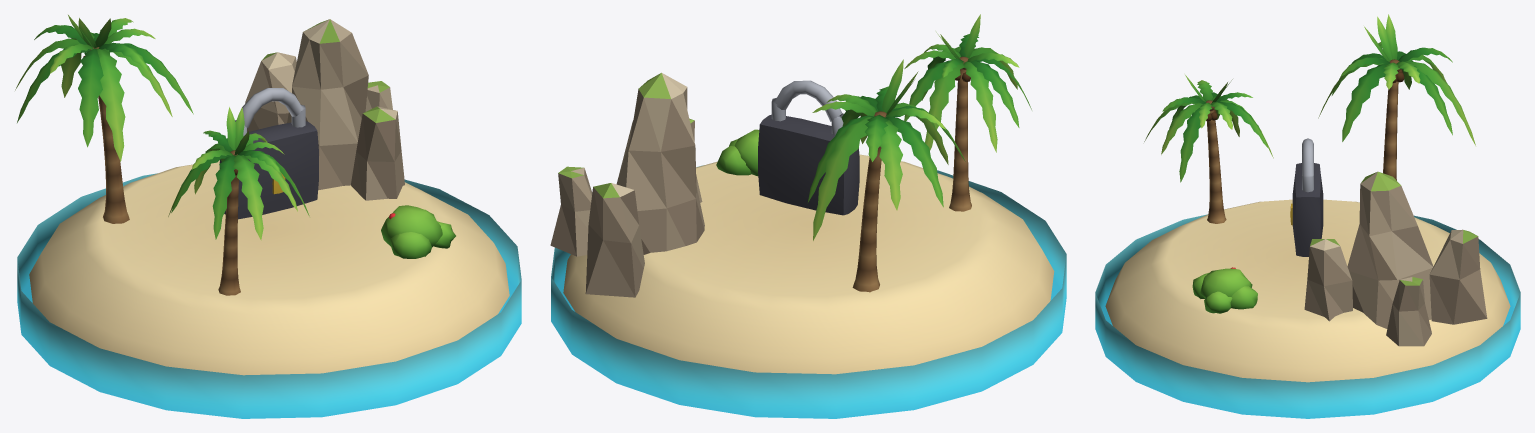
Rendered from IslandExpansion_Locked.obj.
3 views of the same model, side by side, from view 1: azimuth 30°, elevation 25°; view 2: azimuth 150°, elevation 25°; view 3: azimuth 270°, elevation 25° (orthographic). The views are drawn at different scales.
Parts seen in each view (by area): view 1: IslandExpansion_Locked; view 2: IslandExpansion_Locked; view 3: IslandExpansion_Locked.
Part boxes in pixels (bbox=[...]): IslandExpansion_Locked: bbox=[15, 15, 521, 418]; IslandExpansion_Locked: bbox=[550, 14, 1066, 418]; IslandExpansion_Locked: bbox=[1095, 14, 1520, 418].
Size of the model in its own units: 4.2 by 2.75 by 4.2.
1 material, 1 textured.
